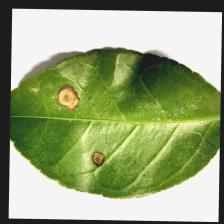canker: (38, 66, 118, 172)
